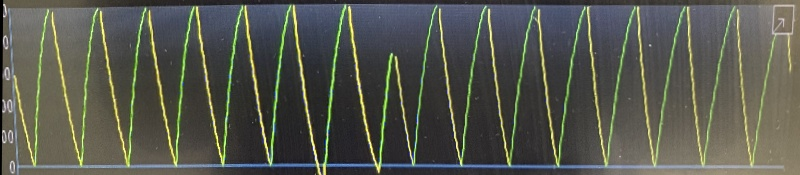normal_volume: (19, 1, 762, 174)
